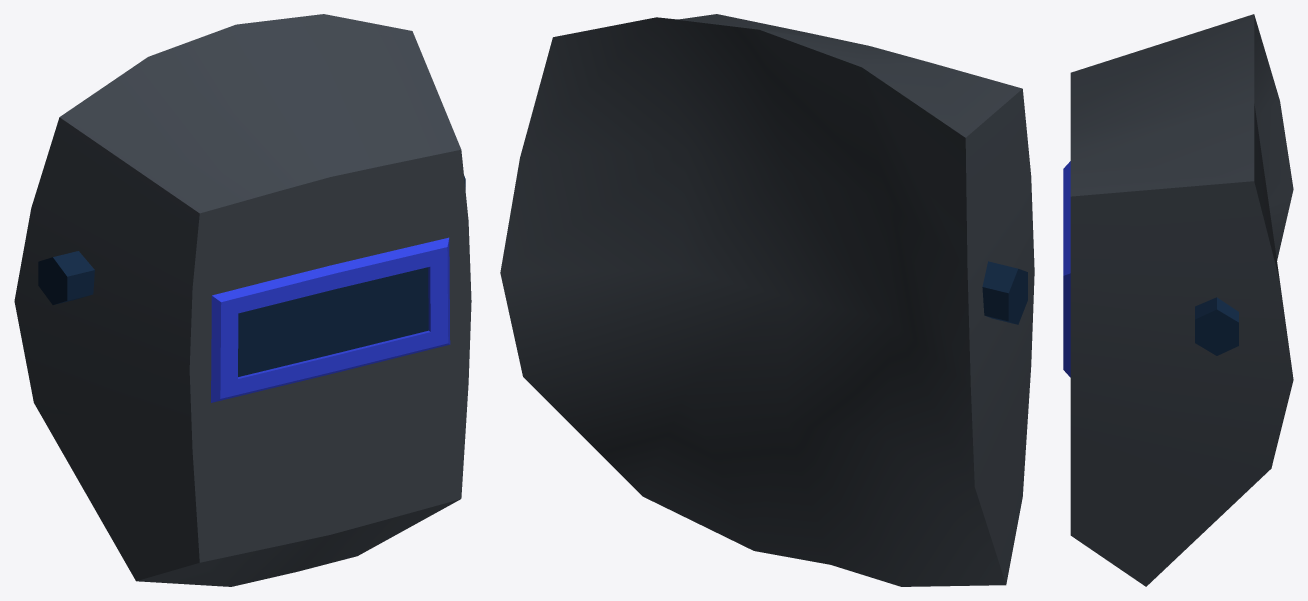
The model's file is Welder's helmet.fbx.
3 views of the same model, side by side, from view 1: azimuth 30°, elevation 25°; view 2: azimuth 150°, elevation 25°; view 3: azimuth 270°, elevation 25° (orthographic). The views are drawn at different scales.
Parts seen in each view (by area): view 1: Welder's helmet; view 2: Welder's helmet; view 3: Welder's helmet.
Boxes of the visible parts, <box> form: Welder's helmet: <box>14,14,471,586</box>; Welder's helmet: <box>500,14,1034,586</box>; Welder's helmet: <box>1063,14,1293,586</box>.
Bounding box in the file's own units: 0.7571 × 0.8875 × 0.3785.
